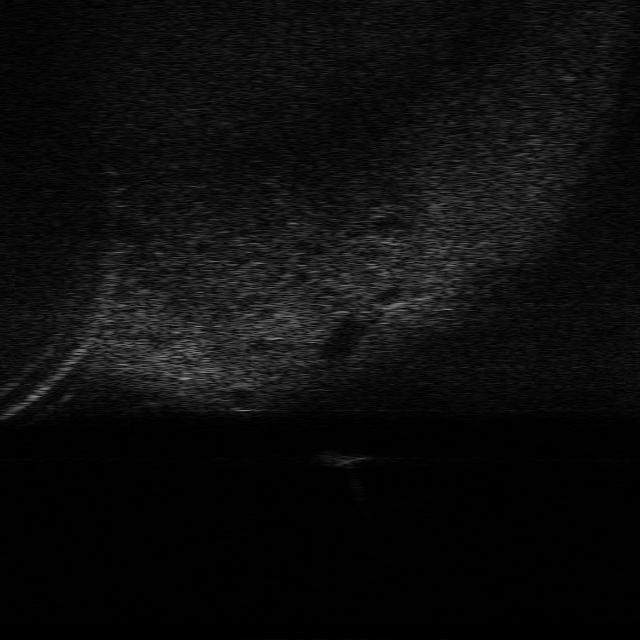cube: (310, 451, 372, 468)
